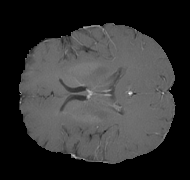Edema: (55, 106, 106, 162)
EnhancingTumors: (67, 144, 80, 157)
Necrosis: (68, 144, 80, 155)
